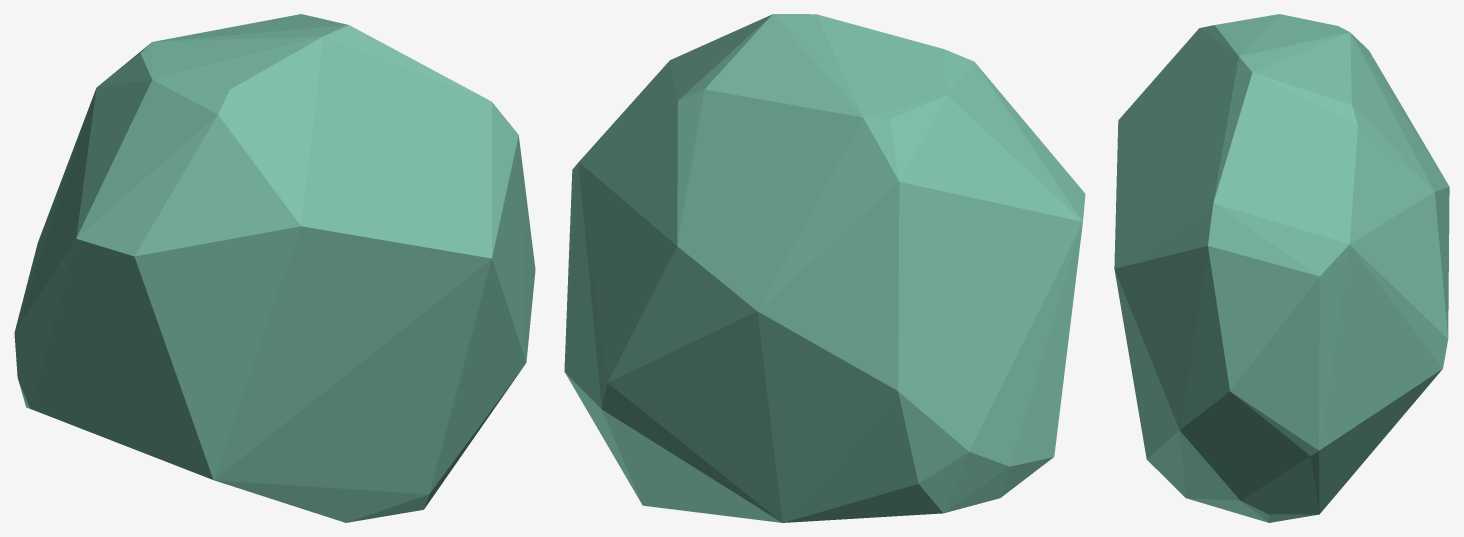
File: food_produce_tangerine_c01.glb
3 renders of one model, left to right at view 1: azimuth 30°, elevation 25°; view 2: azimuth 150°, elevation 25°; view 3: azimuth 270°, elevation 25°, orthographic. The views are drawn at different scales.
Visible parts, largest first — view 1: geometry_0; view 2: geometry_0; view 3: geometry_0.
Boxes of the visible parts, x1,y1,x2,y2 form: geometry_0: [14, 14, 535, 522]; geometry_0: [564, 14, 1085, 522]; geometry_0: [1114, 14, 1449, 522].
Size of the model in its own units: 0.4616 by 0.4511 by 0.3265.
